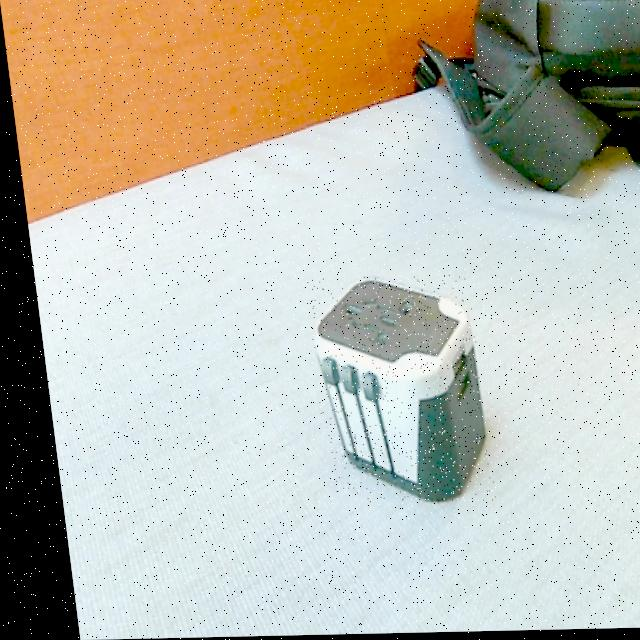adapter: (296, 276, 482, 505)
